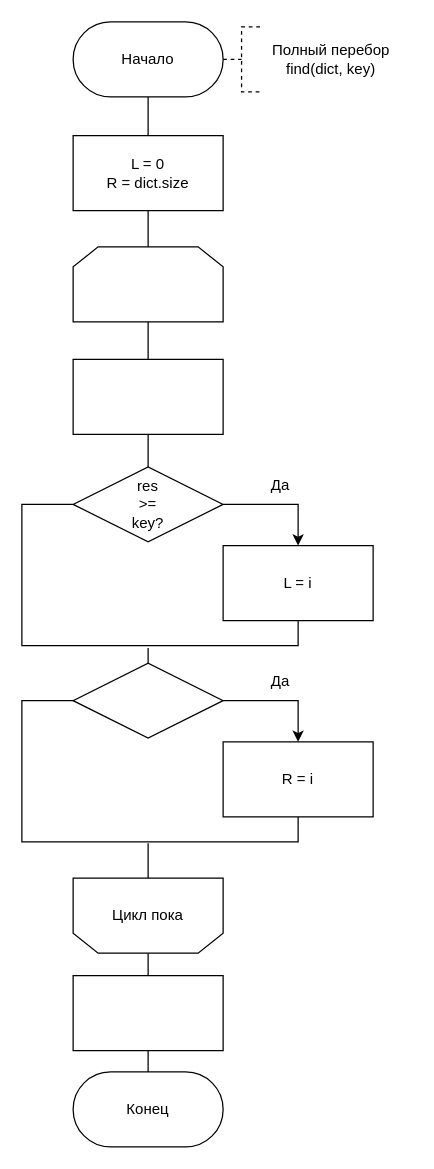
Image size: 434x1169. Some labels were removed from this diagram. The shapes that lost their labels are listed below. From the top down, each one's box as (x1, y1, x2, y2) in pixels, then its label:
(72, 246, 223, 322): Цикл пока L < R
(72, 358, 223, 434): i = (L + R) / 2 res = dict[i].key - key
(72, 662, 223, 738): res <= key?
(72, 974, 223, 1051): value = dict[key].data
